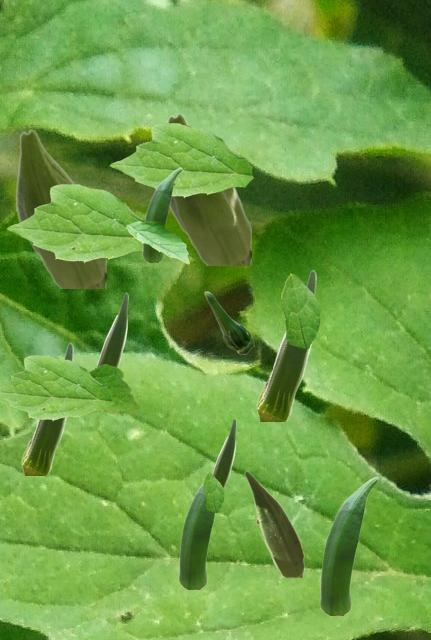okra: (15, 129, 105, 287), (167, 113, 250, 264), (256, 269, 315, 420), (319, 476, 378, 614), (21, 342, 72, 474), (244, 470, 303, 576), (178, 483, 215, 588), (142, 167, 181, 261), (204, 291, 253, 353), (93, 292, 127, 368), (204, 418, 235, 497)
